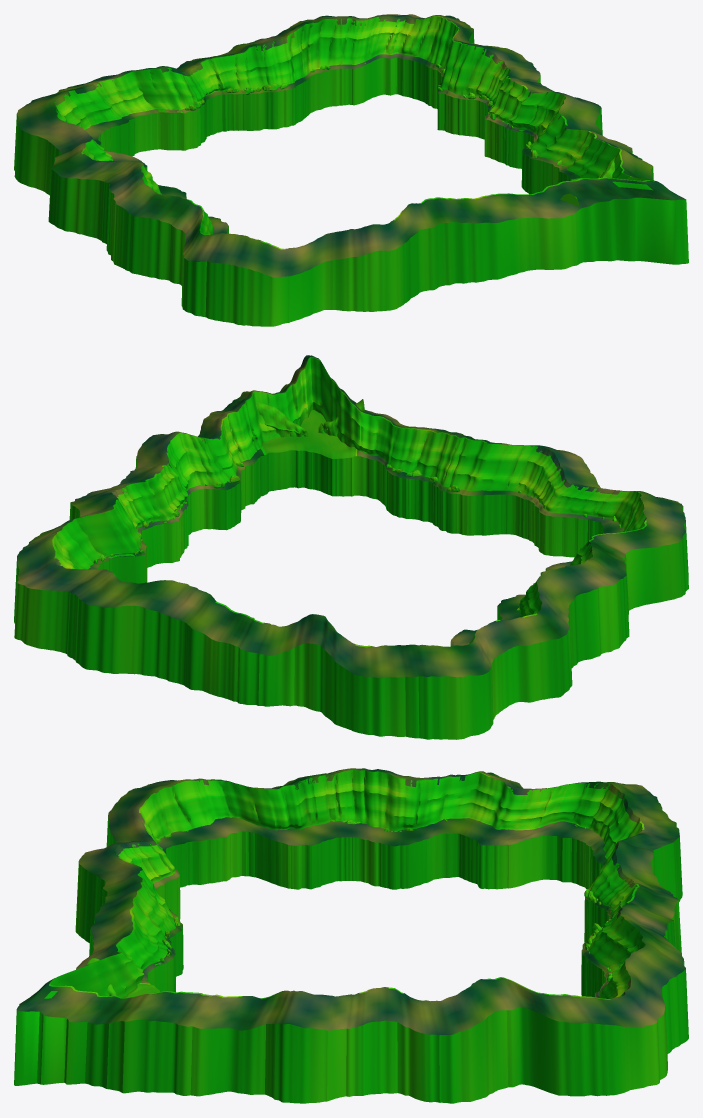
Rendered from SM_ForestRisingCliffs.fbx.
3 renders of one model, top to bottom at view 1: azimuth 30°, elevation 25°; view 2: azimuth 150°, elevation 25°; view 3: azimuth 270°, elevation 25°, orthographic. The views are drawn at different scales.
Parts seen in each view (by area): view 1: SM_ForestRisingCliffs; view 2: SM_ForestRisingCliffs; view 3: SM_ForestRisingCliffs.
Part boxes in pixels (left/top/right/bottom): SM_ForestRisingCliffs: left=14, top=14, right=688, bottom=326; SM_ForestRisingCliffs: left=14, top=355, right=688, bottom=739; SM_ForestRisingCliffs: left=14, top=768, right=688, bottom=1103.
Bounding box in the file's own units: 322 × 340 × 52.13.
